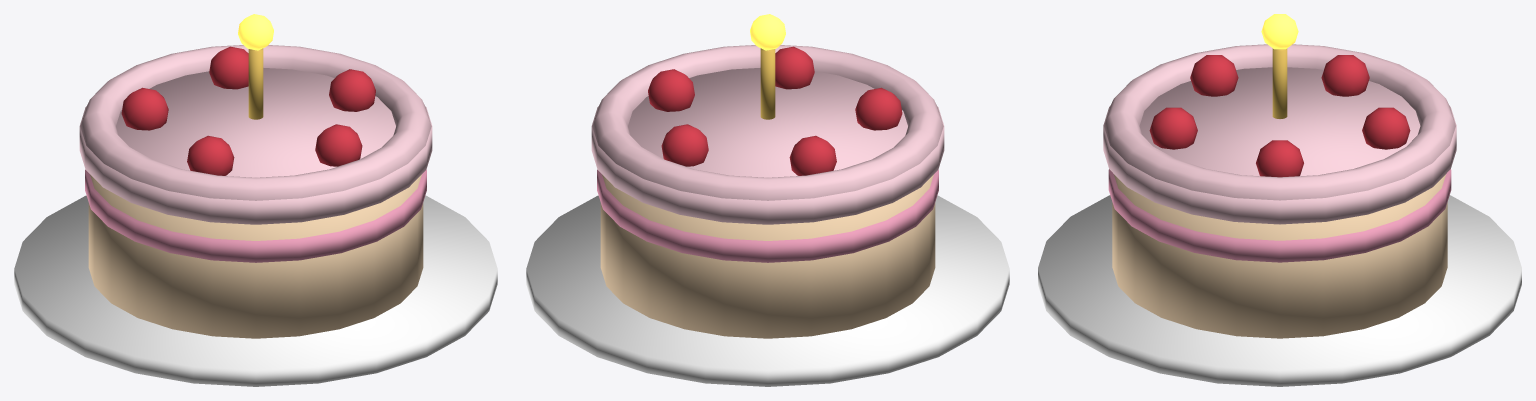
File: cake.glb
The picture shows the model from 3 angles, left to right: view 1: azimuth 30°, elevation 25°; view 2: azimuth 150°, elevation 25°; view 3: azimuth 270°, elevation 25°; orthographic projection.
Visible parts, largest first — view 1: plate, sponge, frosting, piping, cream-layer, berry, berry.003, berry.001, berry.002, berry.004, candle-stick, flame; view 2: plate, sponge, frosting, piping, cream-layer, berry, berry.002, berry.004, berry.003, berry.001, candle-stick, flame; view 3: plate, sponge, frosting, piping, cream-layer, berry.001, berry.004, berry.002, berry.003, berry, candle-stick, flame.
Boxes of the visible parts, x1,y1,x2,y2 form: plate: (14, 195, 497, 386); sponge: (88, 174, 423, 338); frosting: (79, 68, 432, 224); piping: (80, 45, 431, 200); cream-layer: (85, 169, 426, 262); berry: (329, 69, 375, 111); berry.003: (121, 87, 168, 130); berry.001: (315, 124, 362, 166); berry.002: (187, 135, 234, 175); berry.004: (209, 46, 248, 89); candle-stick: (248, 48, 263, 119); flame: (238, 14, 273, 50); plate: (526, 195, 1009, 386); sponge: (600, 174, 935, 338); frosting: (591, 68, 944, 224); piping: (592, 45, 943, 200); cream-layer: (597, 169, 938, 262); berry: (648, 69, 694, 111); berry.002: (855, 87, 902, 130); berry.004: (661, 124, 708, 166); berry.003: (789, 135, 836, 175); berry.001: (775, 46, 814, 89); candle-stick: (760, 48, 775, 119); flame: (750, 14, 785, 50); plate: (1038, 195, 1521, 386); sponge: (1112, 174, 1447, 338); frosting: (1103, 67, 1456, 224); piping: (1104, 44, 1455, 200); cream-layer: (1108, 169, 1451, 262); berry.001: (1149, 107, 1197, 149); berry.004: (1362, 107, 1410, 149); berry.002: (1190, 55, 1238, 96); berry.003: (1321, 55, 1369, 96); berry: (1256, 140, 1303, 177); candle-stick: (1272, 48, 1287, 118); flame: (1261, 14, 1298, 49).
Size of the model in its own units: 0.26 by 0.16 by 0.26.
